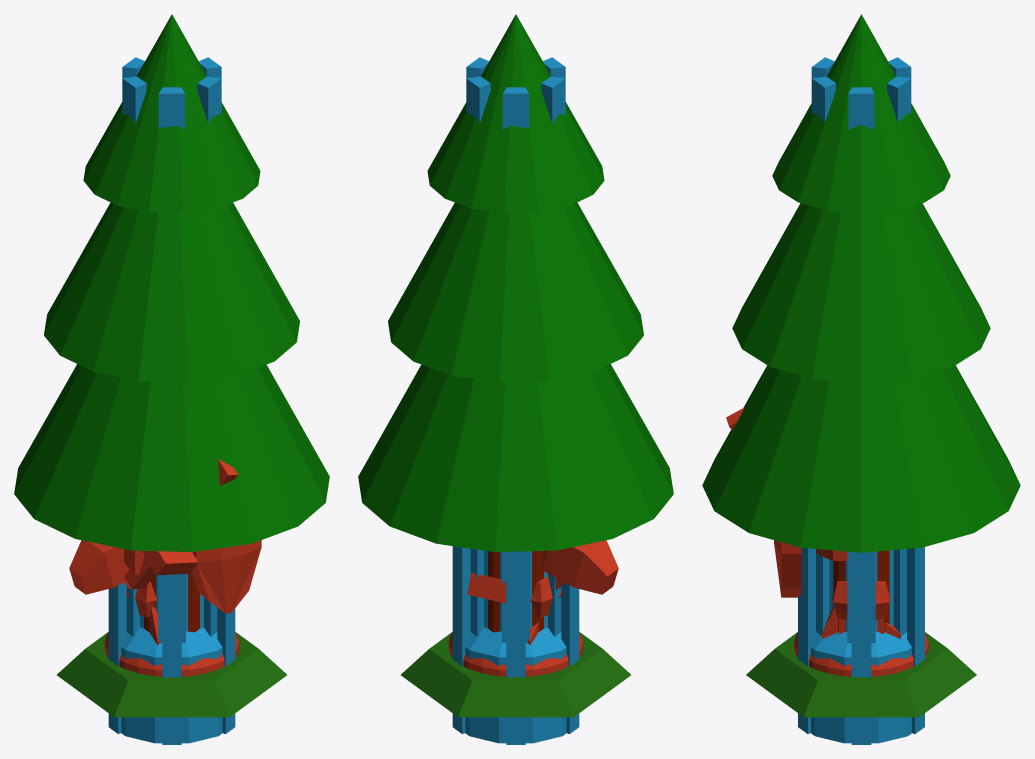
File: Assets.obj
3 renders of one model, left to right at view 1: azimuth 30°, elevation 25°; view 2: azimuth 150°, elevation 25°; view 3: azimuth 270°, elevation 25°, orthographic.
Parts seen in each view (by area): view 1: Tree, Tower02, Hex, Infantry02, Cavalry02; view 2: Tree, Tower02, Hex, Cavalry02, Infantry02, Artillery02; view 3: Tree, Tower02, Hex, Infantry02, Cavalry02.
Boxes of the visible parts, x1=… form: Tree: x1=14, y1=14, x2=329, y2=632; Tower02: x1=108, y1=57, x2=235, y2=744; Hex: x1=57, y1=632, x2=286, y2=717; Infantry02: x1=104, y1=459, x2=261, y2=676; Cavalry02: x1=69, y1=540, x2=157, y2=617; Tree: x1=358, y1=14, x2=673, y2=632; Tower02: x1=452, y1=57, x2=579, y2=744; Hex: x1=401, y1=632, x2=630, y2=717; Cavalry02: x1=530, y1=540, x2=618, y2=617; Infantry02: x1=448, y1=632, x2=583, y2=676; Artillery02: x1=467, y1=573, x2=538, y2=644; Tree: x1=702, y1=14, x2=1020, y2=632; Tower02: x1=798, y1=57, x2=924, y2=744; Hex: x1=746, y1=632, x2=976, y2=717; Infantry02: x1=726, y1=407, x2=928, y2=676; Cavalry02: x1=832, y1=581, x2=890, y2=634.
Size of what is drawn, in the model's own units: 2.75 by 6.71 by 2.75.
